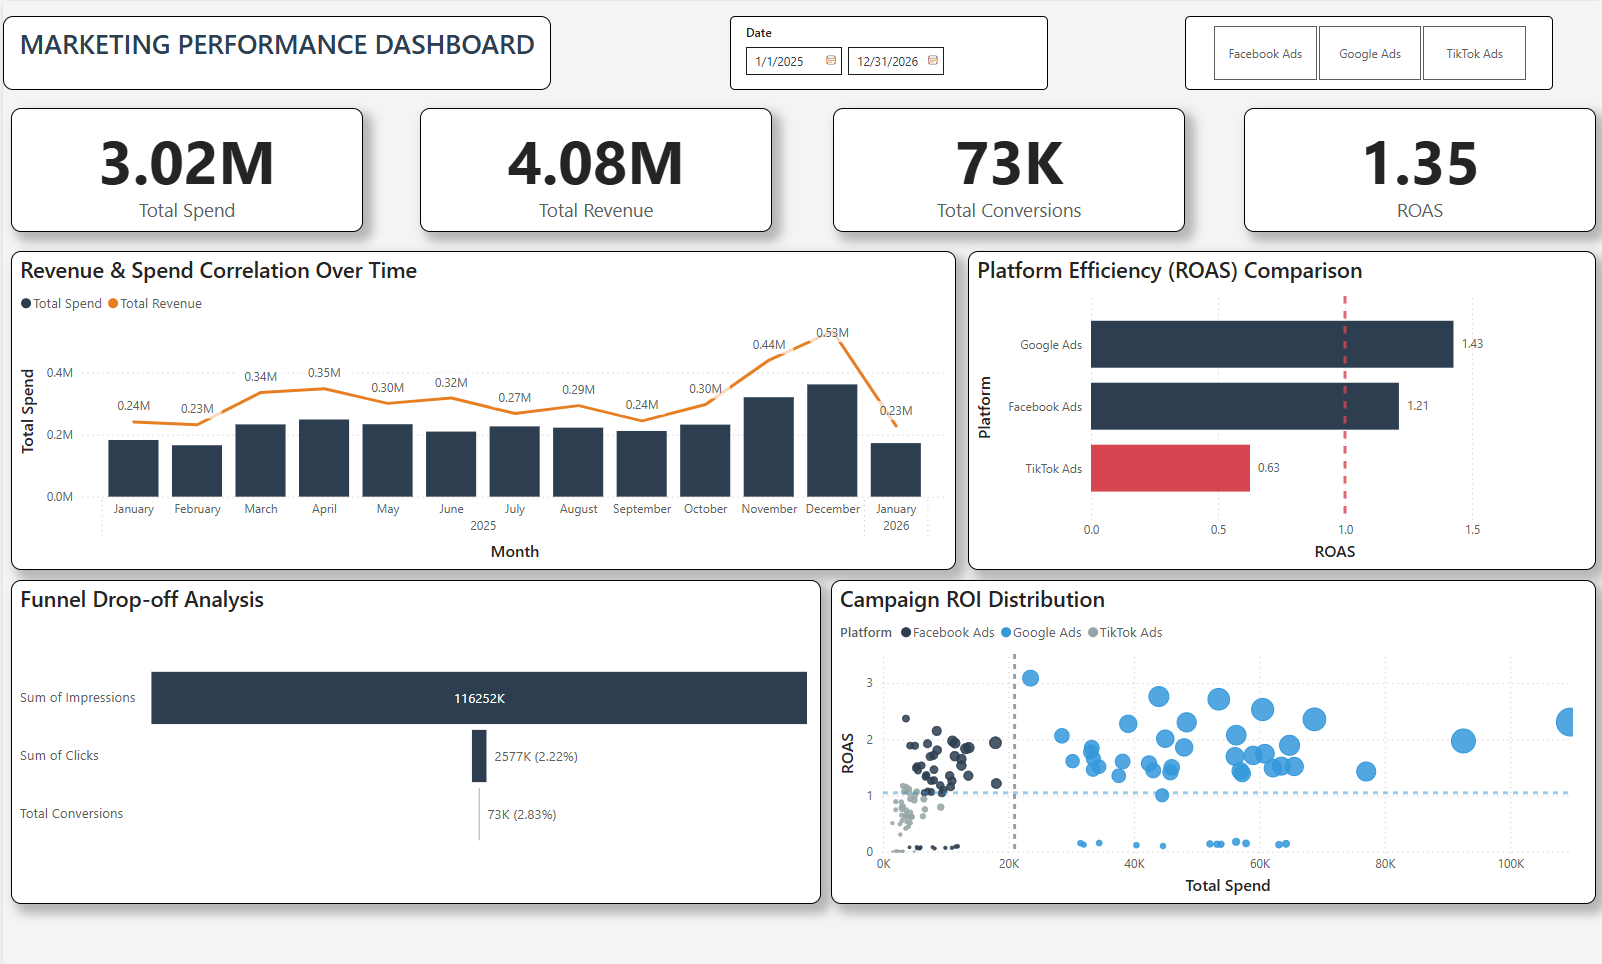

The dashboard page shown, as its layout file describes it:
{"tool":"powerbi","page":{"name":"Page 1","canvas":[1600,1000],"ordinal":0},"visuals":[{"type":"card","fields":{"Values":["_Key Measures.Total Spend"]},"box":[8,107,354,124],"z":0},{"type":"textbox","box":[0,15,644,74],"z":1000},{"type":"slicer","fields":{"Values":["Marketing_Data_Project1.Platform"]},"box":[1182,15,368,74],"z":2000},{"type":"slicer","fields":{"Values":["Dim_Date.Date"]},"box":[727,15,318,74],"z":3000},{"type":"card","fields":{"Values":["_Key Measures.Total Conversions"]},"box":[830,107,352,124],"z":4000},{"type":"card","fields":{"Values":["_Key Measures.ROAS"]},"box":[1241,107,352,124],"z":5000},{"type":"card","fields":{"Values":["_Key Measures.Total Revenue"]},"box":[416,107,354,124],"z":6000},{"type":"lineClusteredColumnComboChart","title":"Revenue & Spend Correlation Over Time","fields":{"Y":["_Key Measures.Total Spend"],"Y2":["_Key Measures.Total Revenue"],"Category":["Dim_Date.Date.Variation.Date Hierarchy.Year","Dim_Date.Date.Variation.Date Hierarchy.Month"]},"box":[8,250,945,319],"z":7000},{"type":"clusteredBarChart","title":"Platform Efficiency (ROAS) Comparison","fields":{"Category":["Marketing_Data_Project1.Platform"],"Y":["_Key Measures.ROAS"]},"box":[965,250,628,319],"z":8000},{"type":"funnel","title":"Funnel Drop-off Analysis","fields":{"Y":["Sum(Marketing_Data_Project1.Impressions)","Sum(Marketing_Data_Project1.Clicks)","_Key Measures.Total Conversions"]},"box":[8,579,810,324],"z":9000},{"type":"scatterChart","title":"Campaign ROI Distribution","fields":{"X":["_Key Measures.Total Spend"],"Y":["_Key Measures.ROAS"],"Size":["_Key Measures.Total Revenue"],"Category":["Marketing_Data_Project1.Campaign_Name"],"Series":["Marketing_Data_Project1.Platform"]},"box":[828,579,765,324],"z":10000}]}

Visuals, with their boxes in screenshot pixels (x1, y1, x2, y2):
card - _Key Measures.Total Spend: (left=29, top=105, right=378, bottom=228)
textbox: (left=21, top=15, right=655, bottom=88)
slicer - Marketing_Data_Project1.Platform: (left=1185, top=15, right=1548, bottom=88)
slicer - Dim_Date.Date: (left=737, top=15, right=1051, bottom=88)
card - _Key Measures.Total Conversions: (left=839, top=105, right=1185, bottom=228)
card - _Key Measures.ROAS: (left=1244, top=105, right=1590, bottom=228)
card - _Key Measures.Total Revenue: (left=431, top=105, right=780, bottom=228)
"Revenue & Spend Correlation Over Time" lineClusteredColumnComboChart: (left=29, top=246, right=960, bottom=561)
"Platform Efficiency (ROAS) Comparison" clusteredBarChart: (left=972, top=246, right=1590, bottom=561)
"Funnel Drop-off Analysis" funnel: (left=29, top=570, right=827, bottom=890)
"Campaign ROI Distribution" scatterChart: (left=837, top=570, right=1590, bottom=890)
